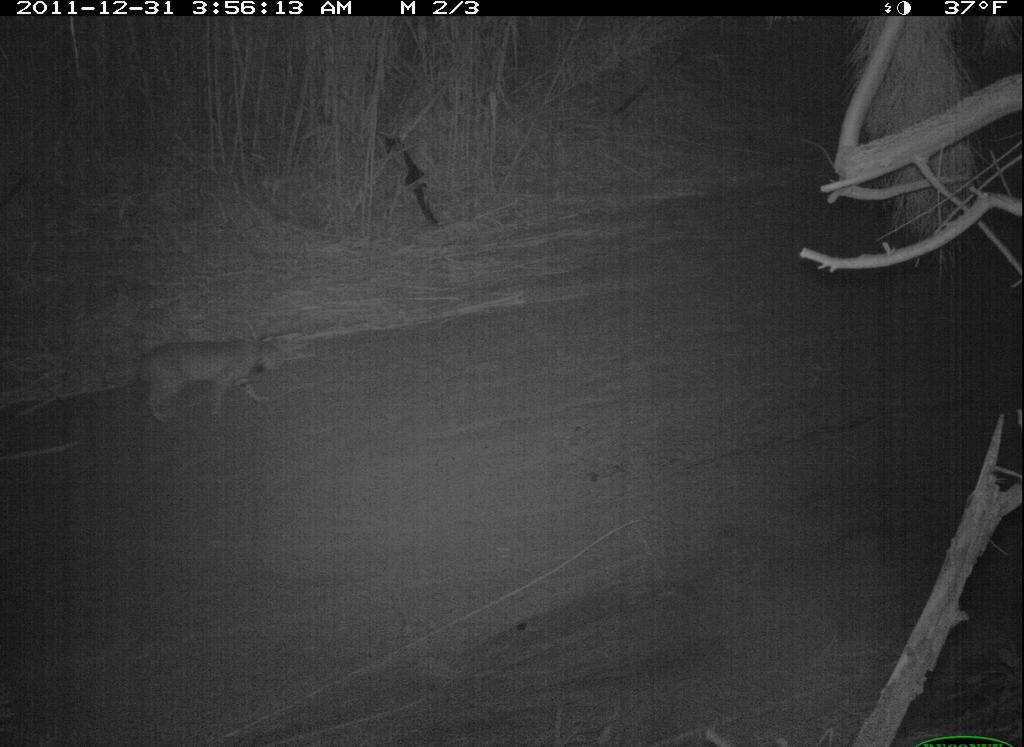bobcat: (127, 324, 299, 433)
